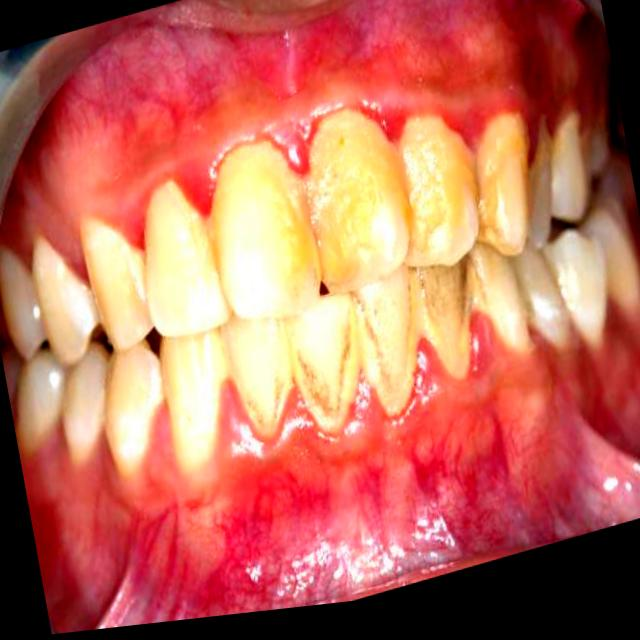gingivitis: (24, 28, 567, 264), (36, 331, 623, 533)
